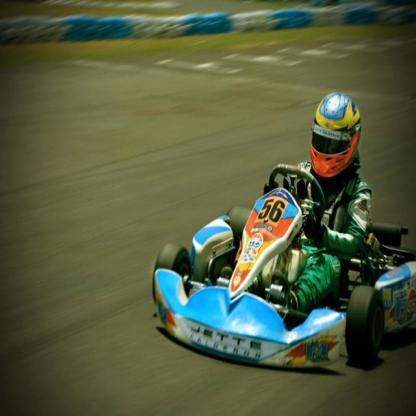Helmet: (311, 90, 361, 184)
